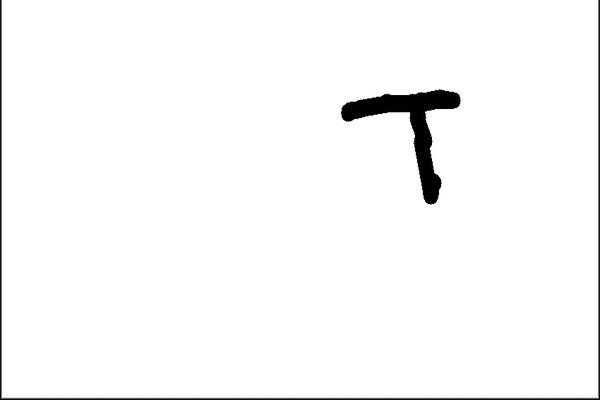T: (334, 80, 476, 210)
